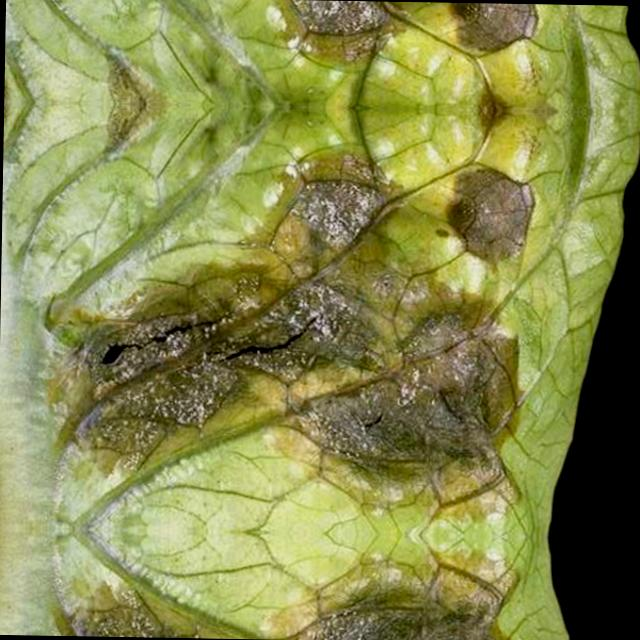Downy_mildew: (22, 100, 604, 518), (29, 0, 605, 111), (20, 547, 595, 640)
